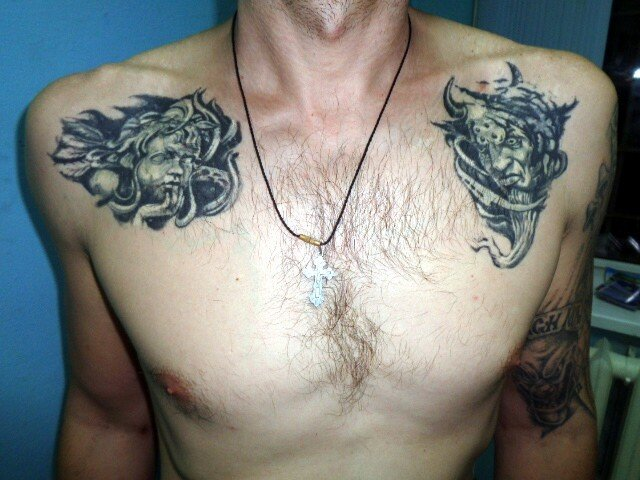tatu1_angel: (50, 90, 245, 229)
